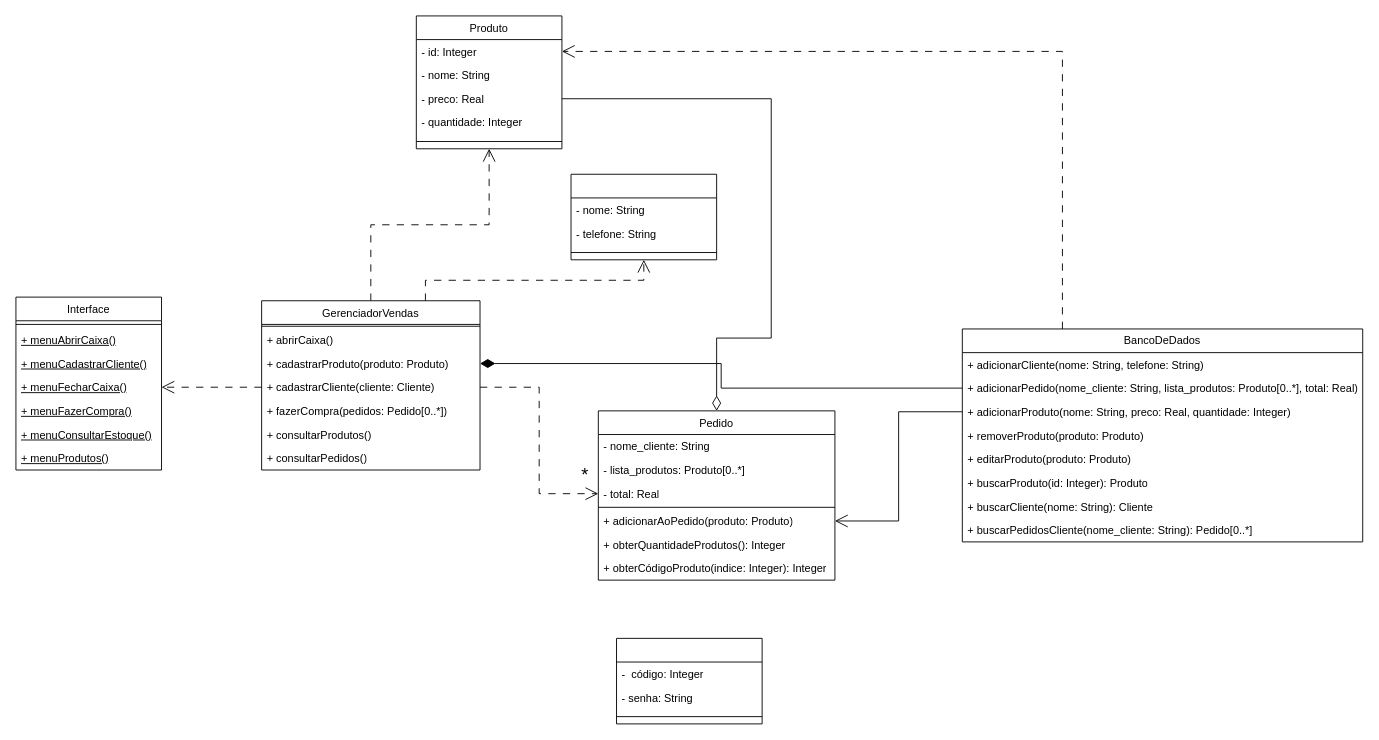
The diagram is 1379 pixels wide and 740 high, and some of its shapes have lost their labels. Each missing label, with the box of its shape:
Cliente: (570, 173, 717, 260)
Vendedor: (616, 637, 762, 724)
